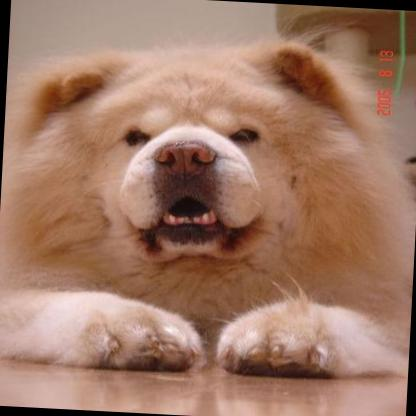chow: (0, 26, 416, 378)
